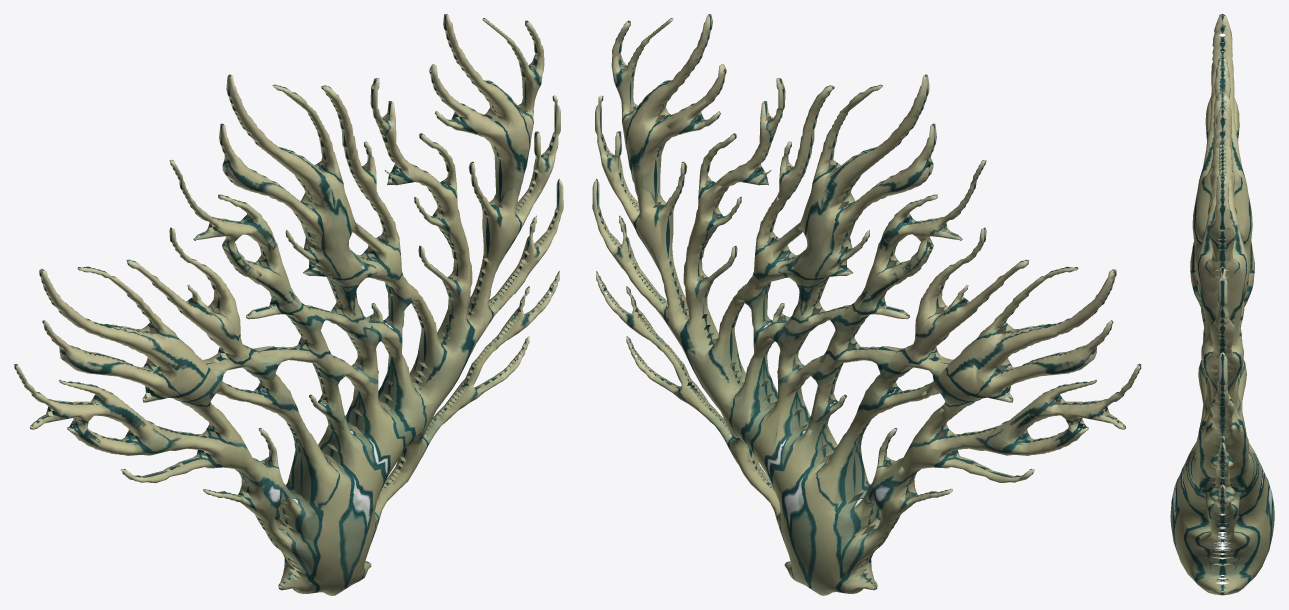
Rendered from sea_fan.glb.
The picture shows the model from 3 angles, left to right: view 1: azimuth 30°, elevation 25°; view 2: azimuth 150°, elevation 25°; view 3: azimuth 270°, elevation 25°; orthographic projection. The views are drawn at different scales.
Visible parts, largest first — view 1: sea_fan; view 2: sea_fan; view 3: sea_fan.
Boxes of the visible parts, bbox=[...] form: sea_fan: bbox=[14, 14, 563, 595]; sea_fan: bbox=[592, 14, 1141, 595]; sea_fan: bbox=[1170, 14, 1274, 595].
Bounding box in the file's own units: 0.9884 × 0.9435 × 0.1662.
Materials: 1 (1 with a texture image).
